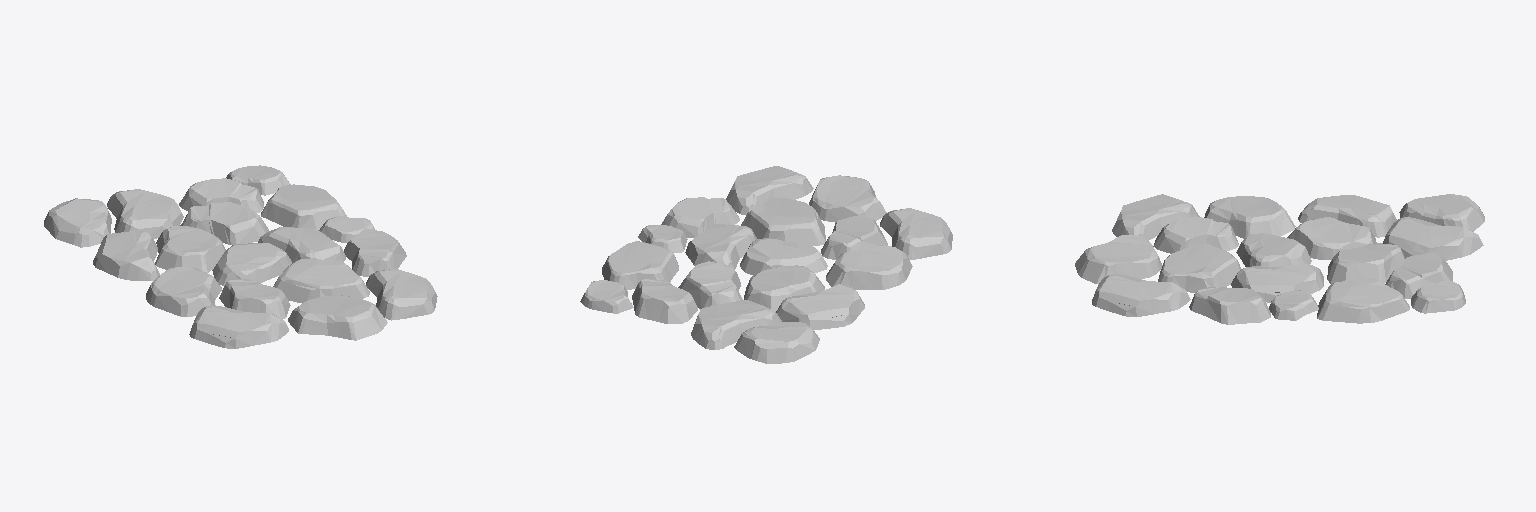
The model's file is RockPath_Round_Thin.obj.
3 renders of one model, left to right at view 1: azimuth 30°, elevation 25°; view 2: azimuth 150°, elevation 25°; view 3: azimuth 270°, elevation 25°, orthographic.
Visible parts, largest first — view 1: RockPath_Round_Thin; view 2: RockPath_Round_Thin; view 3: RockPath_Round_Thin.
Boxes of the visible parts, x1=… form: RockPath_Round_Thin: x1=44, y1=165, x2=437, y2=348; RockPath_Round_Thin: x1=580, y1=166, x2=952, y2=363; RockPath_Round_Thin: x1=1075, y1=194, x2=1484, y2=324.
Bounding box in the file's own units: 1.46 × 0.1103 × 2.09.